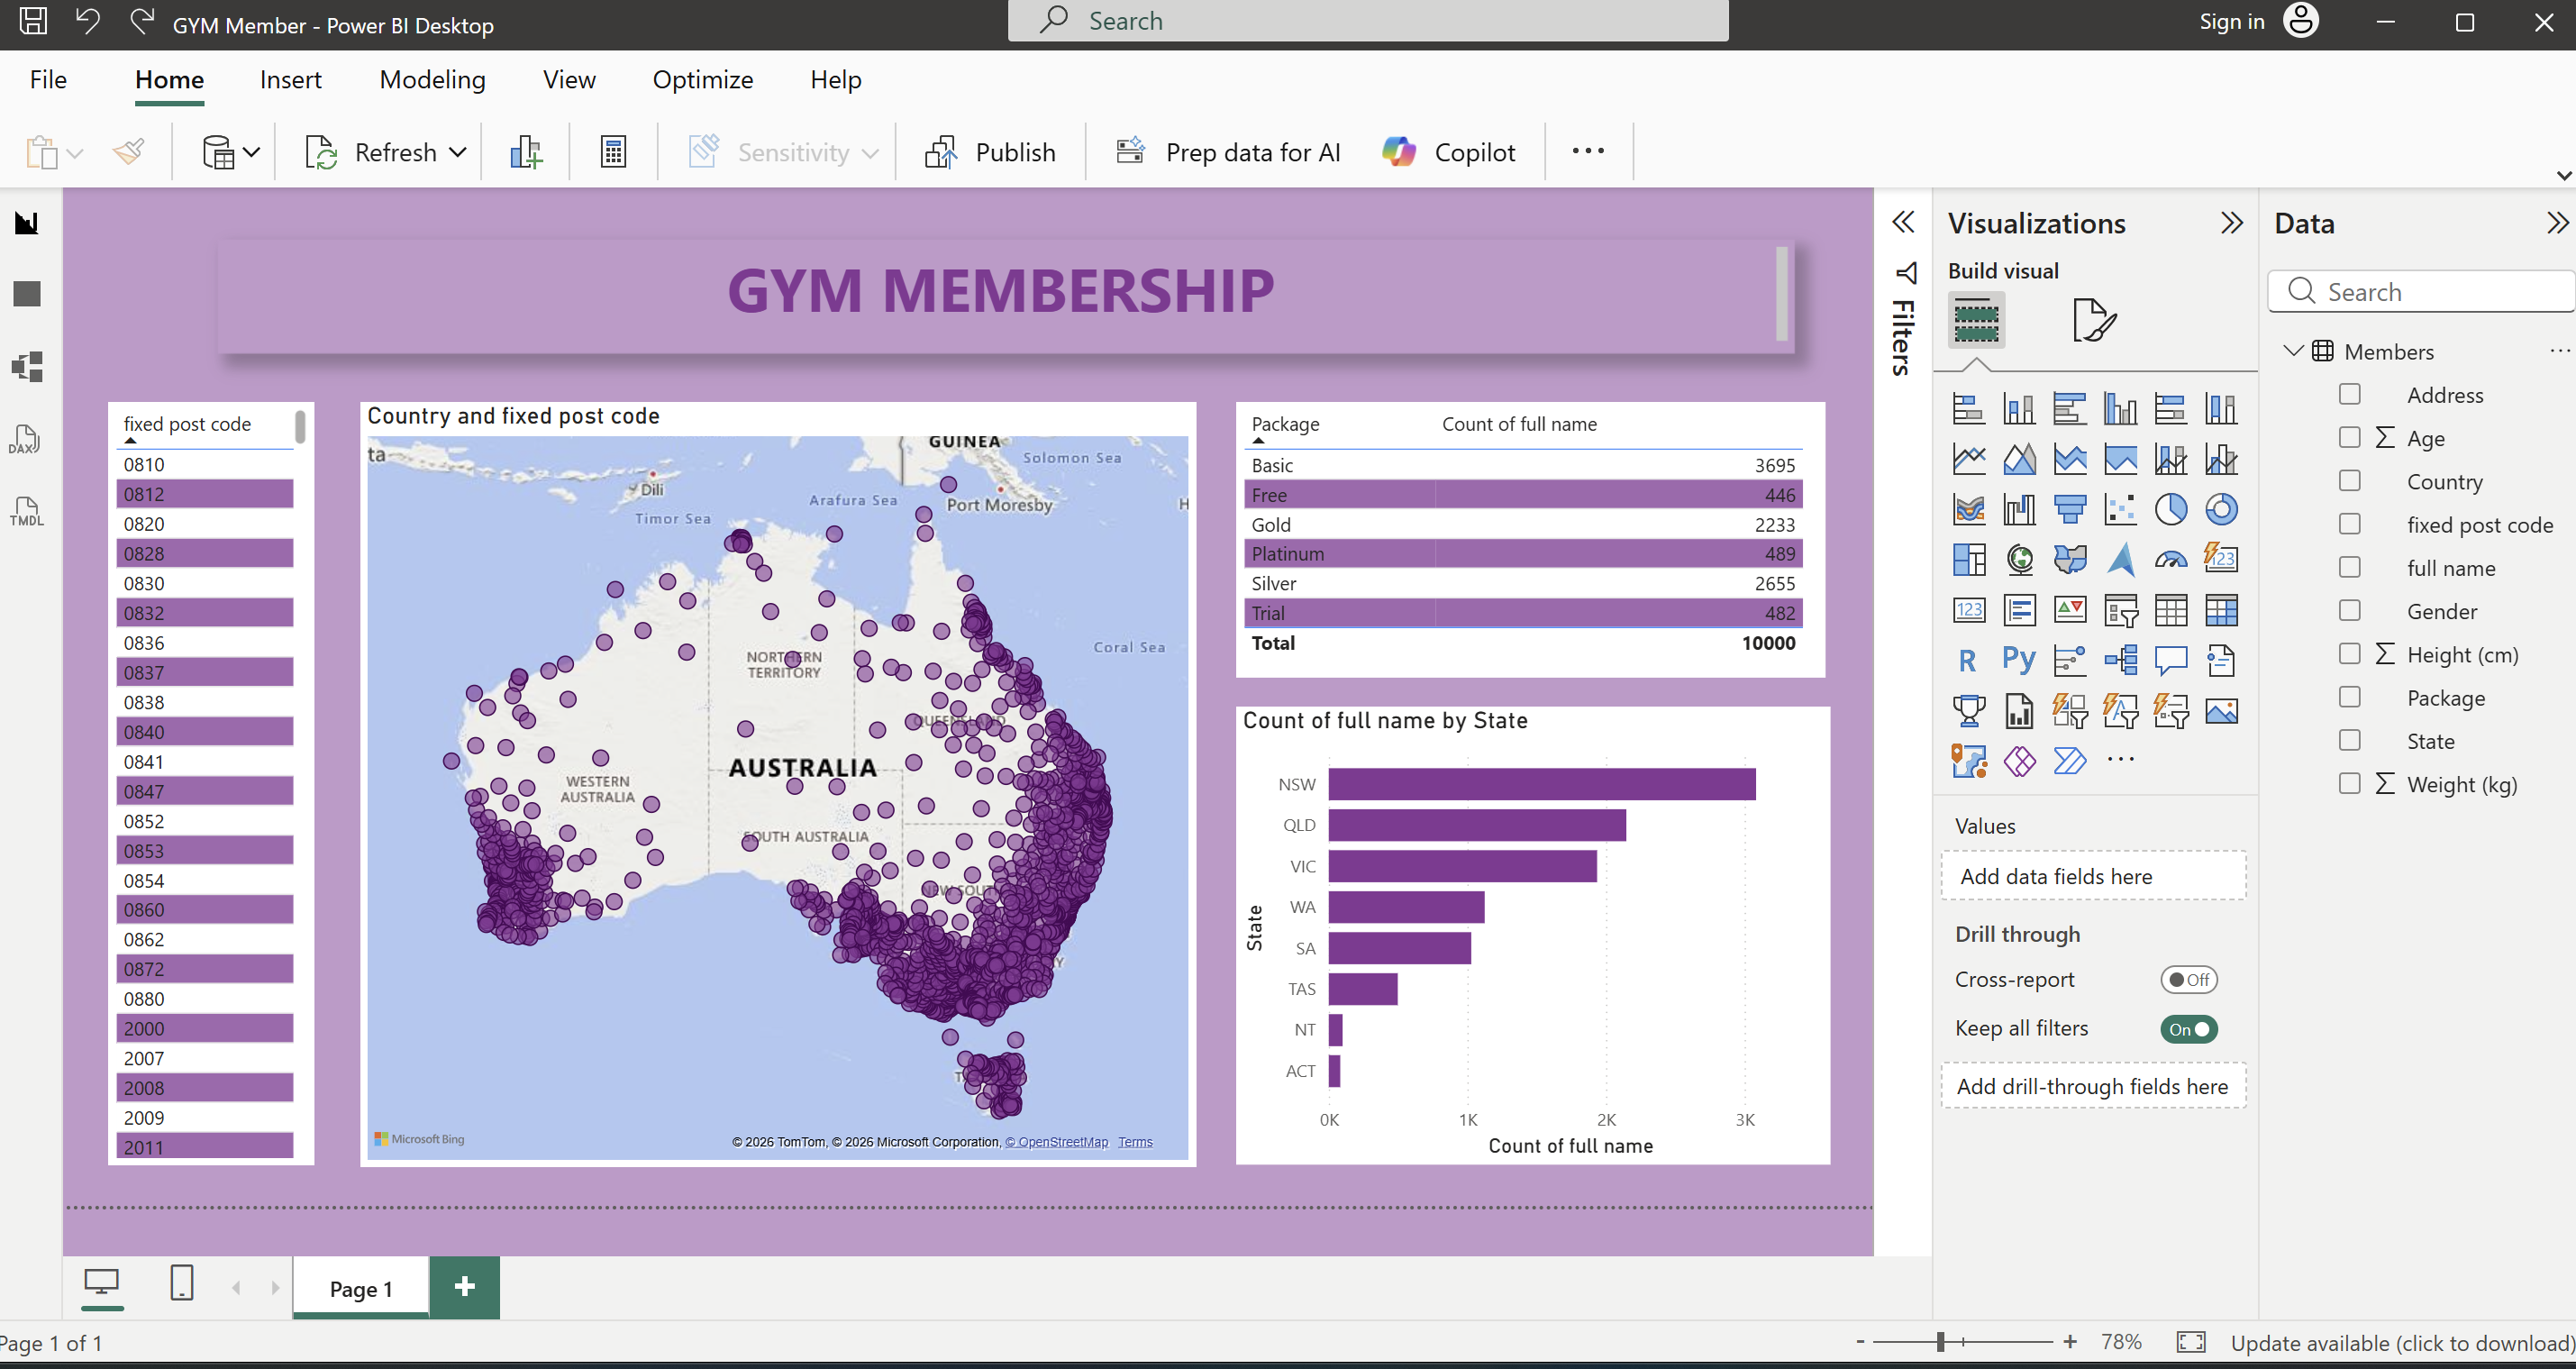

This screenshot's page, from the dashboard's own definition file:
{"tool":"powerbi","page":{"name":"Page 1","canvas":[1280,720],"ordinal":0},"visuals":[{"type":"tableEx","fields":{"Values":["Members.Package","Members.full name"]},"box":[830,151.7,416.9,195.1],"z":0},{"type":"barChart","fields":{"Category":["Members.State"],"Y":["CountNonNull(Members.full name)"]},"box":[830,367.2,420.7,323.8],"z":1000},{"type":"map","fields":{"Category":["Members.Country","Members.fixed post code"]},"box":[209.9,152.1,590.8,541],"z":2000},{"type":"tableEx","fields":{"Values":["Members.fixed post code"]},"box":[32.3,152.1,145.3,539.7],"z":3000},{"type":"textbox","box":[109,36.3,1115.7,80.7],"z":3001}]}

Visuals, with their boxes on the page's 1280x720 design canvas (x1, y1, x2, y2). These are canvas units, not pixel positions in the 2576x1369 screenshot, which may show the page scaled, cropped or inside an application window:
tableEx - Members.Package x Members.full name: [left=830, top=152, right=1247, bottom=347]
barChart - Members.State x CountNonNull(Members.full name): [left=830, top=367, right=1251, bottom=691]
map - Members.Country x Members.fixed post code: [left=210, top=152, right=801, bottom=693]
tableEx - Members.fixed post code: [left=32, top=152, right=178, bottom=692]
textbox: [left=109, top=36, right=1225, bottom=117]
